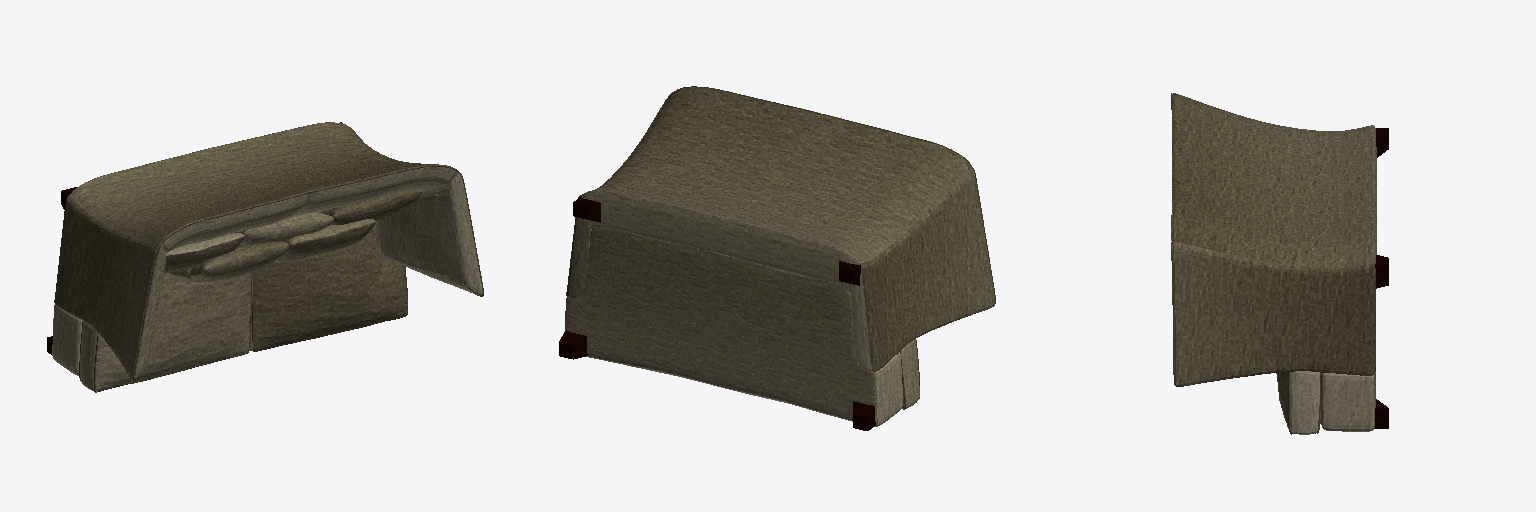
3 renders of one model, left to right at view 1: azimuth 30°, elevation 25°; view 2: azimuth 150°, elevation 25°; view 3: azimuth 270°, elevation 25°, orthographic.
Visible parts, largest first — view 1: gramercy_sofa_rest_seat_002, gramercy_seat_001, gramercy_pillow_d_002, gramercy_pillow_e_002, gramercy_pillow_b_002, gramercy_pillow_a_002, gramercy_pillow_c_002, gramercy_sofa_deck_001, gramercy_sofa_rest_seat_welt_002, gramercy_seat_welt_001; view 2: gramercy_sofa_rest_seat_002, gramercy_sofa_deck_001, gramercy_sofa_legs_001, gramercy_seat_001; view 3: gramercy_sofa_rest_seat_002, gramercy_sofa_deck_001, gramercy_seat_001, gramercy_sofa_legs_001.
Boxes of the visible parts, x1=… form: gramercy_sofa_rest_seat_002: x1=54, y1=122, x2=482, y2=380; gramercy_seat_001: x1=80, y1=221, x2=406, y2=390; gramercy_pillow_d_002: x1=169, y1=242, x2=288, y2=281; gramercy_pillow_e_002: x1=277, y1=219, x2=375, y2=260; gramercy_pillow_b_002: x1=318, y1=192, x2=421, y2=224; gramercy_pillow_a_002: x1=235, y1=212, x2=333, y2=245; gramercy_pillow_c_002: x1=164, y1=233, x2=244, y2=272; gramercy_sofa_deck_001: x1=52, y1=305, x2=82, y2=375; gramercy_sofa_rest_seat_welt_002: x1=59, y1=165, x2=483, y2=381; gramercy_seat_welt_001: x1=79, y1=224, x2=407, y2=392; gramercy_sofa_rest_seat_002: x1=566, y1=87, x2=994, y2=371; gramercy_sofa_deck_001: x1=565, y1=227, x2=902, y2=426; gramercy_sofa_legs_001: x1=559, y1=197, x2=875, y2=430; gramercy_seat_001: x1=901, y1=339, x2=919, y2=408; gramercy_sofa_rest_seat_002: x1=1171, y1=93, x2=1376, y2=385; gramercy_sofa_deck_001: x1=1321, y1=372, x2=1375, y2=431; gramercy_seat_001: x1=1276, y1=371, x2=1320, y2=434; gramercy_sofa_legs_001: x1=1374, y1=128, x2=1388, y2=428.
Bounding box in the file's own units: 170 × 95.4 × 91.58.
Materials: 2 (1 with a texture image).